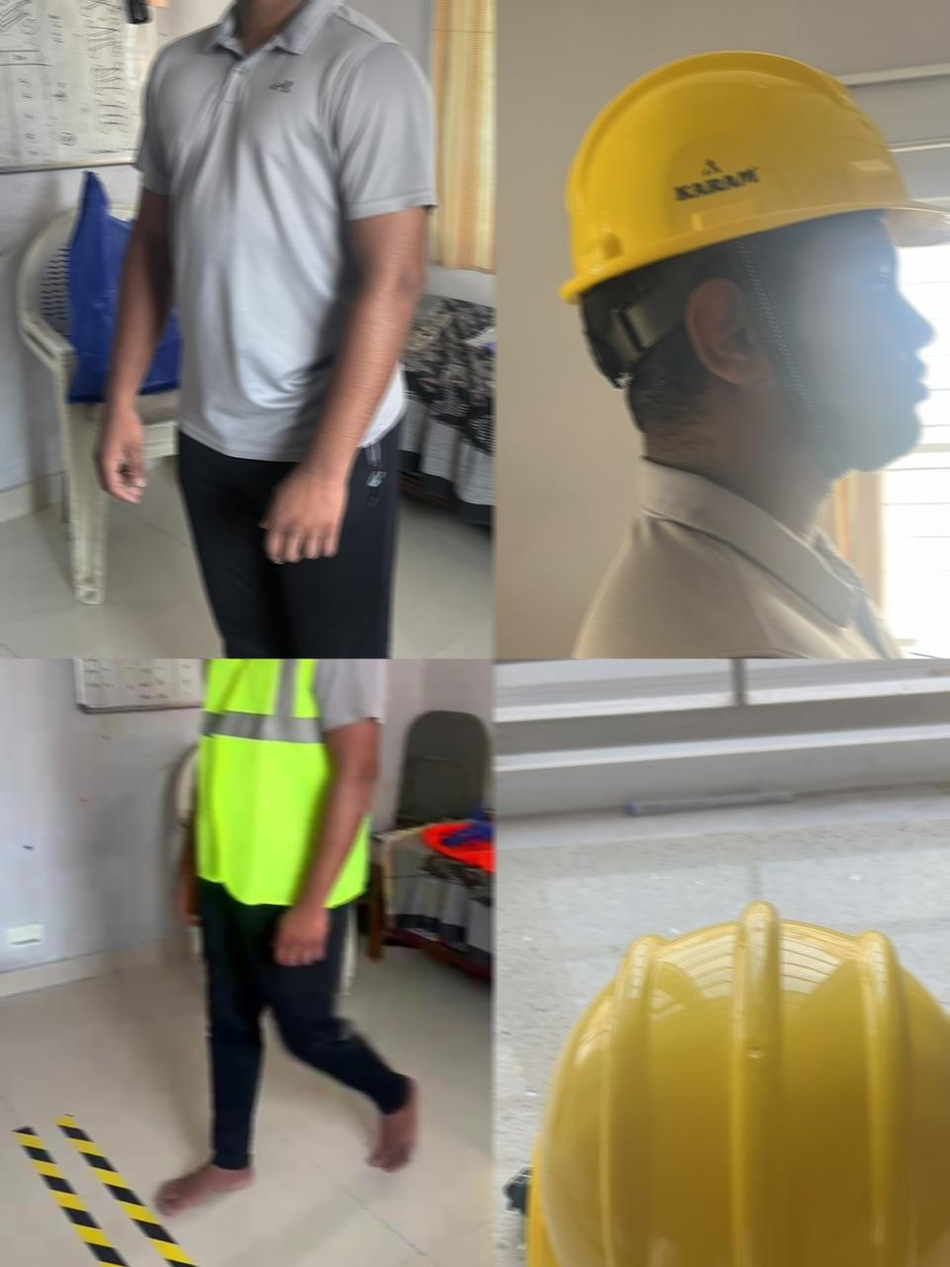BorderLine: (12, 1114, 308, 1267)
Helmet: (560, 49, 950, 475), (523, 900, 950, 1267)
No_Vest: (132, 0, 439, 462), (546, 460, 950, 658)
Person: (546, 49, 950, 658), (88, 0, 439, 658), (155, 658, 422, 1213)
Vest: (194, 658, 392, 908)
